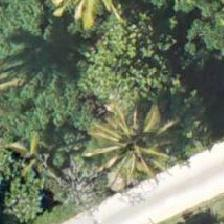Kelapa_Sawit: (95, 94, 185, 184)
